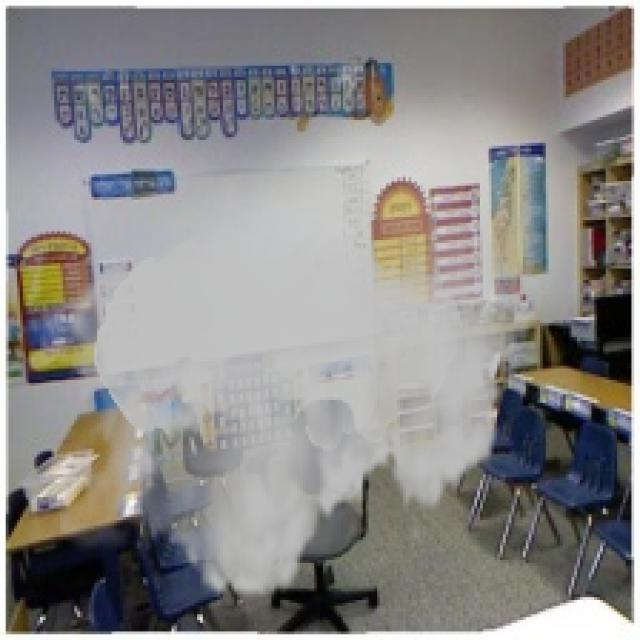Smoke: (26, 57, 543, 620)
